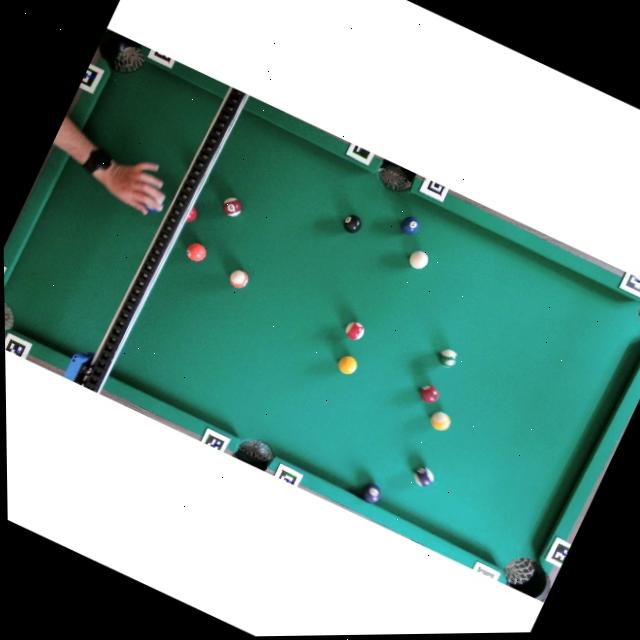cue ball: (405, 246, 431, 273)
other: (409, 463, 437, 490), (358, 479, 385, 506), (218, 193, 245, 220), (397, 212, 423, 239), (183, 239, 209, 266), (427, 408, 454, 434), (334, 352, 360, 378), (226, 266, 251, 292), (339, 211, 365, 236), (435, 345, 460, 370), (416, 382, 442, 406), (342, 318, 366, 343)
